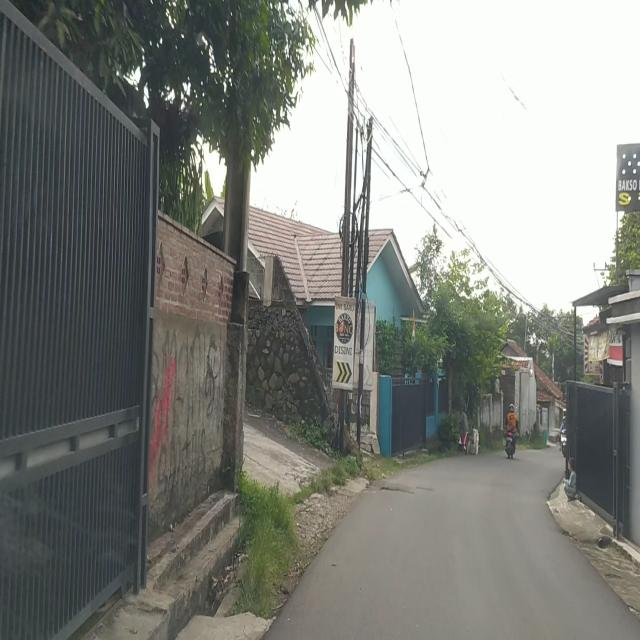Sewer Cover: (379, 482, 415, 496), (414, 482, 433, 492)
